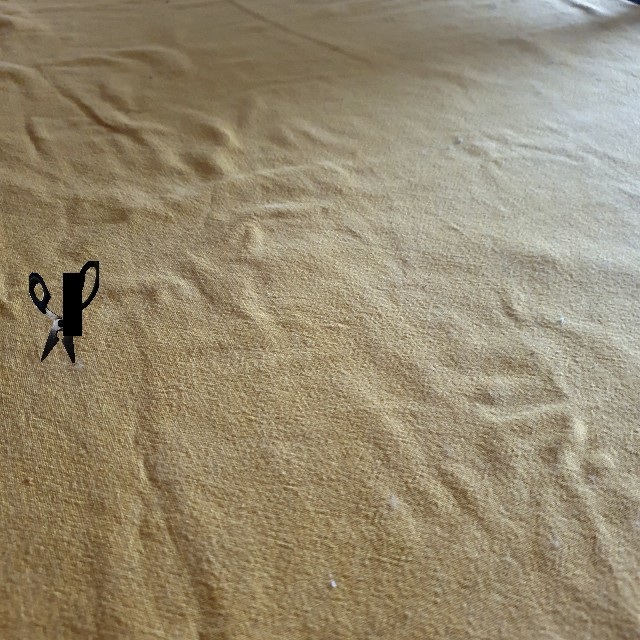scissors: (29, 261, 99, 363)
